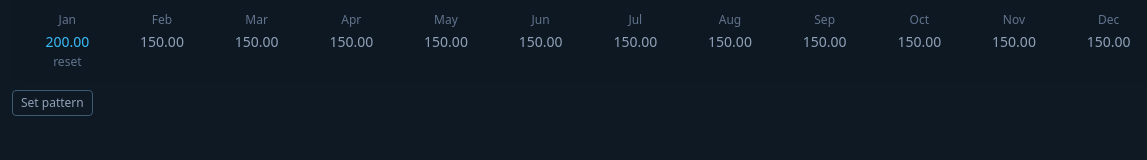
Test case: BudgetOverrideForm › shows Set pattern panel when button is clicked
The width and height of the screenshot is (1147, 160).
What coordinates should you click on to do the following:
click the button "Set pattern"
I would click on:
 (52, 103)
Its box is x1=12 y1=90 x2=93 y2=116.
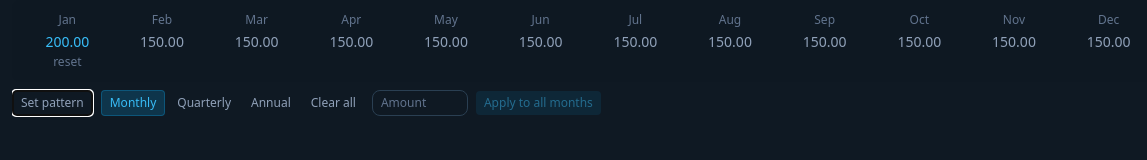
Result: the button "Monthly" is shown at x1=101 y1=90 x2=165 y2=116
Result: the button "Quarterly" is shown at x1=169 y1=90 x2=239 y2=116
Result: the button "Annual" is shown at x1=243 y1=90 x2=299 y2=116
